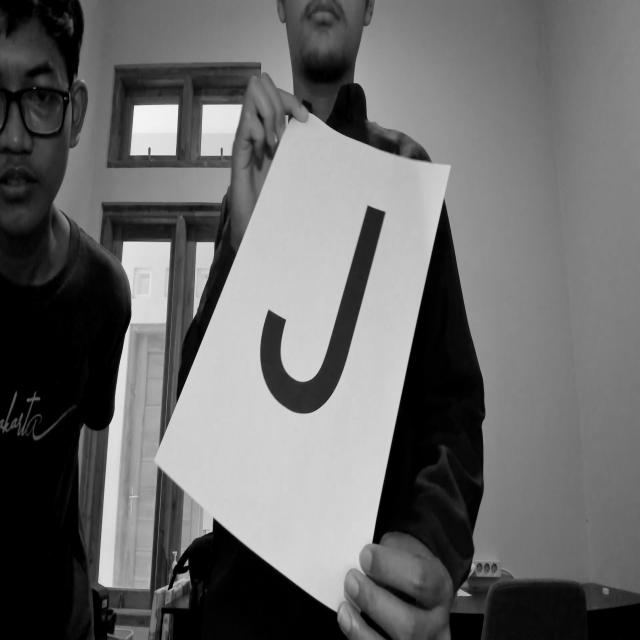j: (253, 200, 392, 439)
